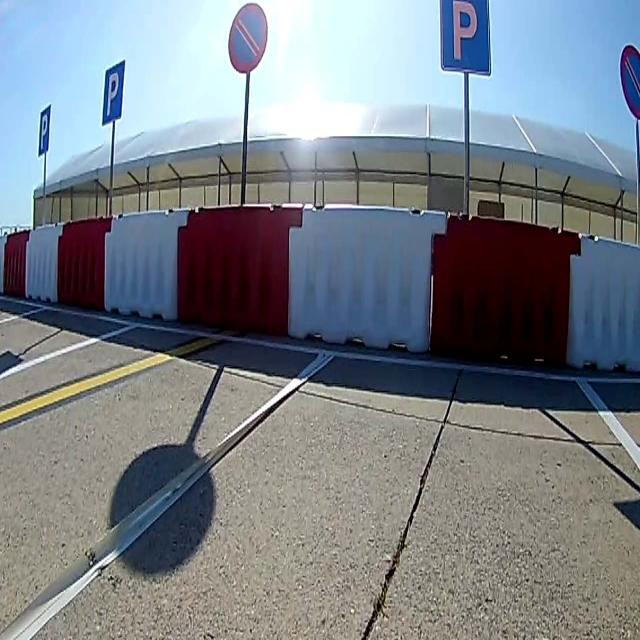park: (440, 1, 490, 74), (102, 65, 124, 116), (38, 107, 52, 153)
parkyasak: (228, 5, 268, 70)
